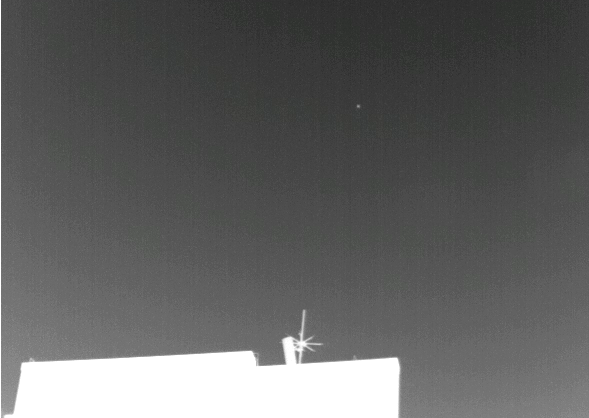dim target: (355, 103, 362, 109)
